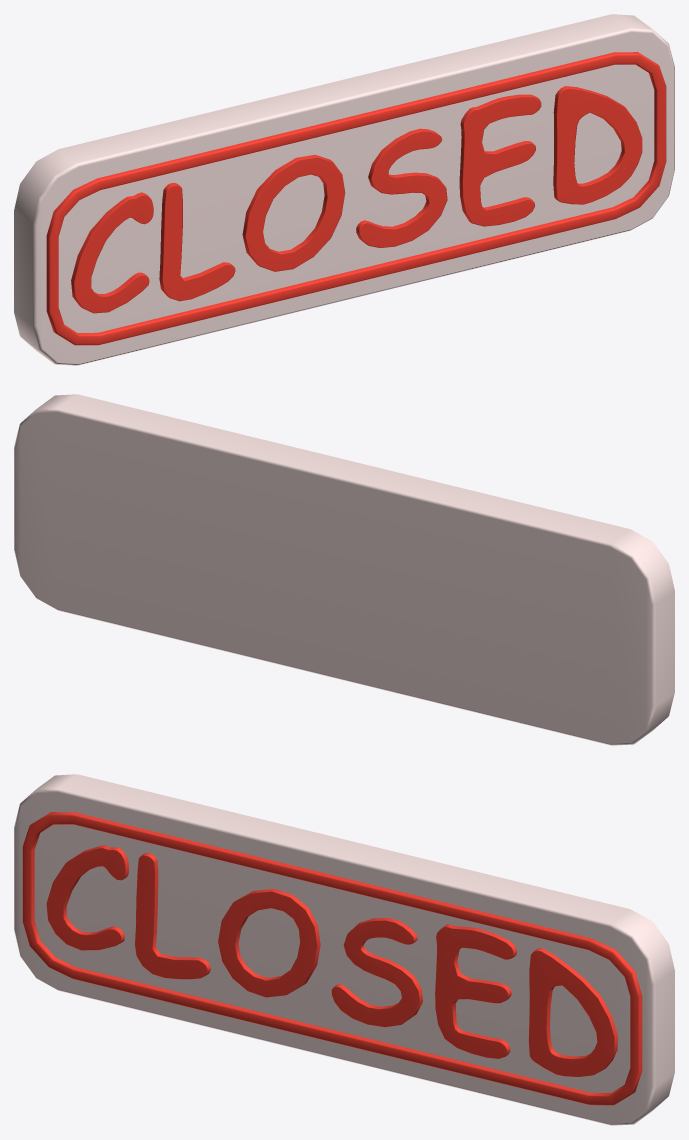
File: City_6_Closed_Sign_1.glb
3 renders of one model, top to bottom at view 1: azimuth 30°, elevation 25°; view 2: azimuth 150°, elevation 25°; view 3: azimuth 330°, elevation 25°, orthographic.
Visible parts, largest first — view 1: City_6_Closed_Sign_1; view 2: City_6_Closed_Sign_1; view 3: City_6_Closed_Sign_1.
Boxes of the visible parts, x1,y1,x2,y2 form: City_6_Closed_Sign_1: (14,14,674,365); City_6_Closed_Sign_1: (14,394,674,745); City_6_Closed_Sign_1: (14,774,674,1125).
Bounding box in the file's own units: 0.7013 × 0.2118 × 0.0471.
1 material, 1 textured.
